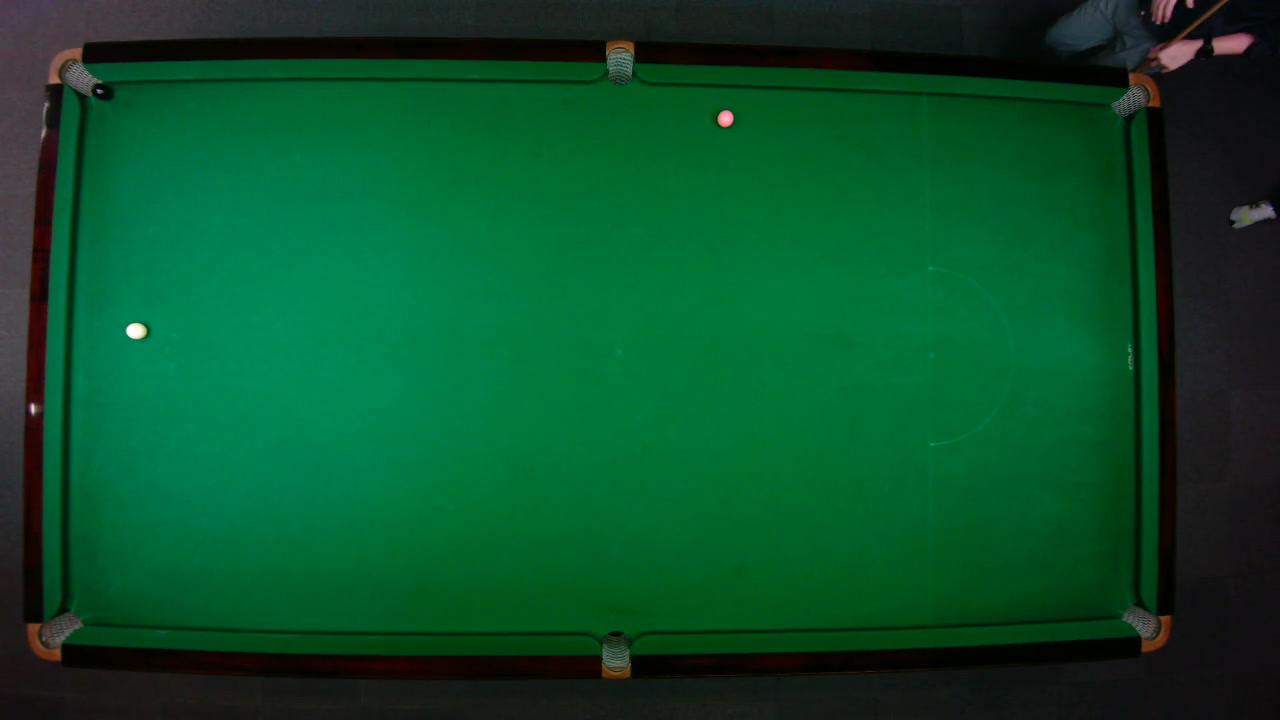bag: (25, 609, 83, 661), (45, 46, 103, 96), (1119, 603, 1171, 652), (1108, 72, 1160, 118), (600, 629, 630, 679), (605, 38, 633, 85)
black: (90, 82, 111, 99)
pink: (715, 108, 735, 128)
white: (124, 321, 148, 339)
zone: (927, 265, 1013, 445)
